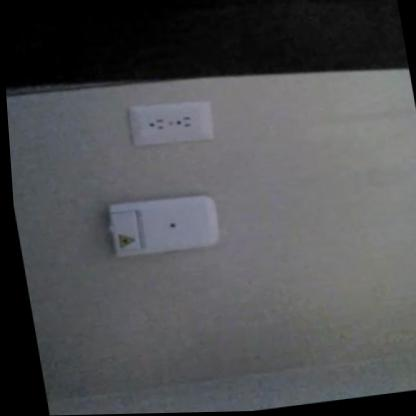OUTLET: (124, 95, 215, 149)
